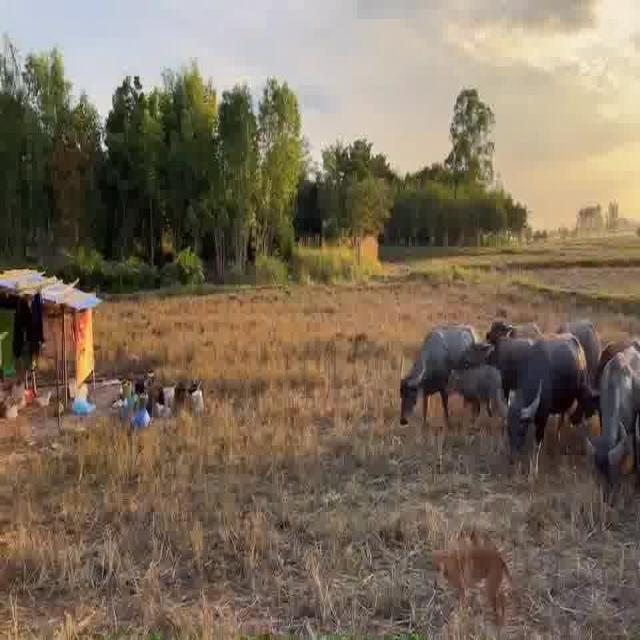buffalo: (482, 313, 598, 480), (396, 316, 501, 434)
